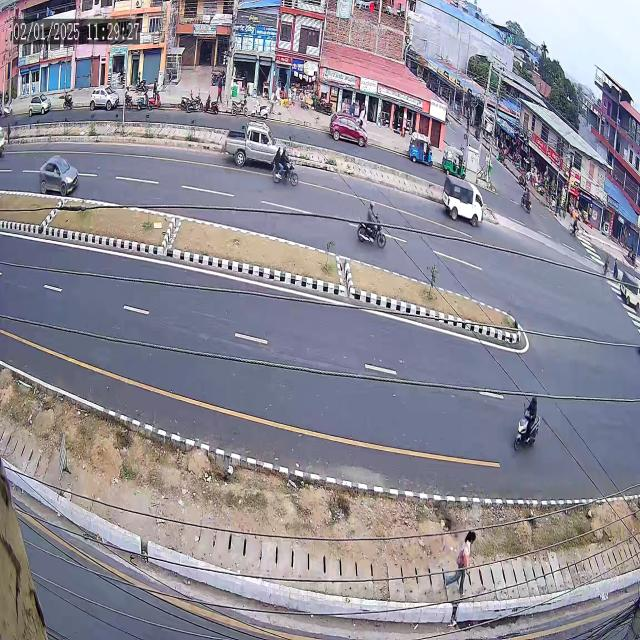car: (27, 150, 85, 214)
motorcycle: (505, 382, 553, 462), (350, 193, 388, 254)
